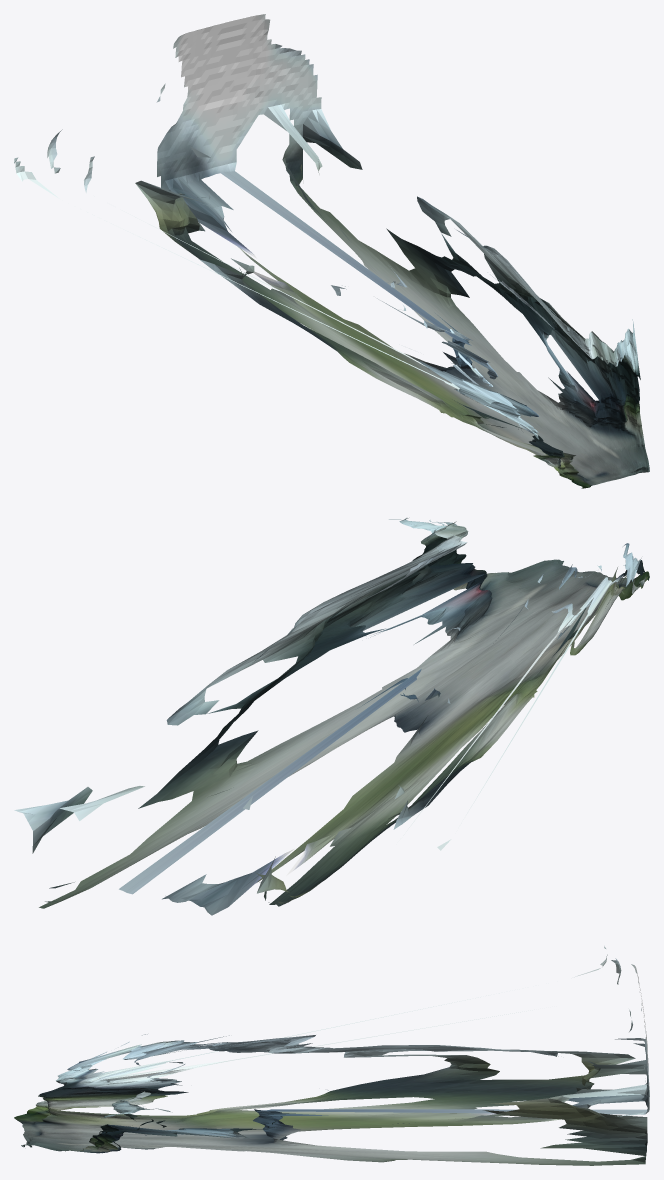
The picture shows the model from 3 angles, top to bottom: view 1: azimuth 30°, elevation 25°; view 2: azimuth 150°, elevation 25°; view 3: azimuth 270°, elevation 25°; orthographic projection. The views are drawn at different scales.
Visible parts, largest first — view 1: defaultobject; view 2: defaultobject; view 3: defaultobject.
Part boxes in pixels (<box>): defaultobject: <box>14,14,649,488</box>; defaultobject: <box>14,518,649,915</box>; defaultobject: <box>14,946,649,1165</box>.
Bounding box in the file's own units: 22.47 × 12.01 × 45.05.
1 material, 1 textured.
